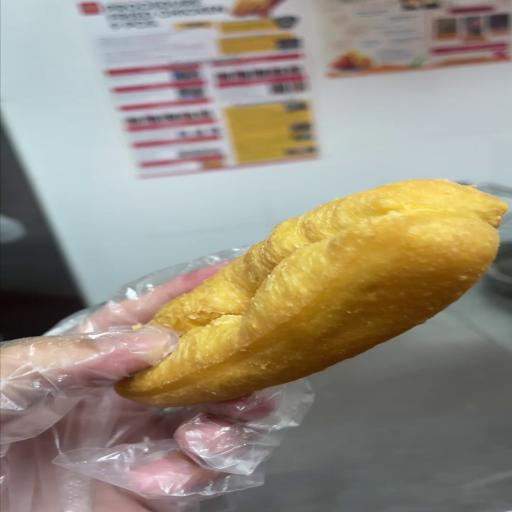brand_golden_good: (117, 180, 506, 407)
